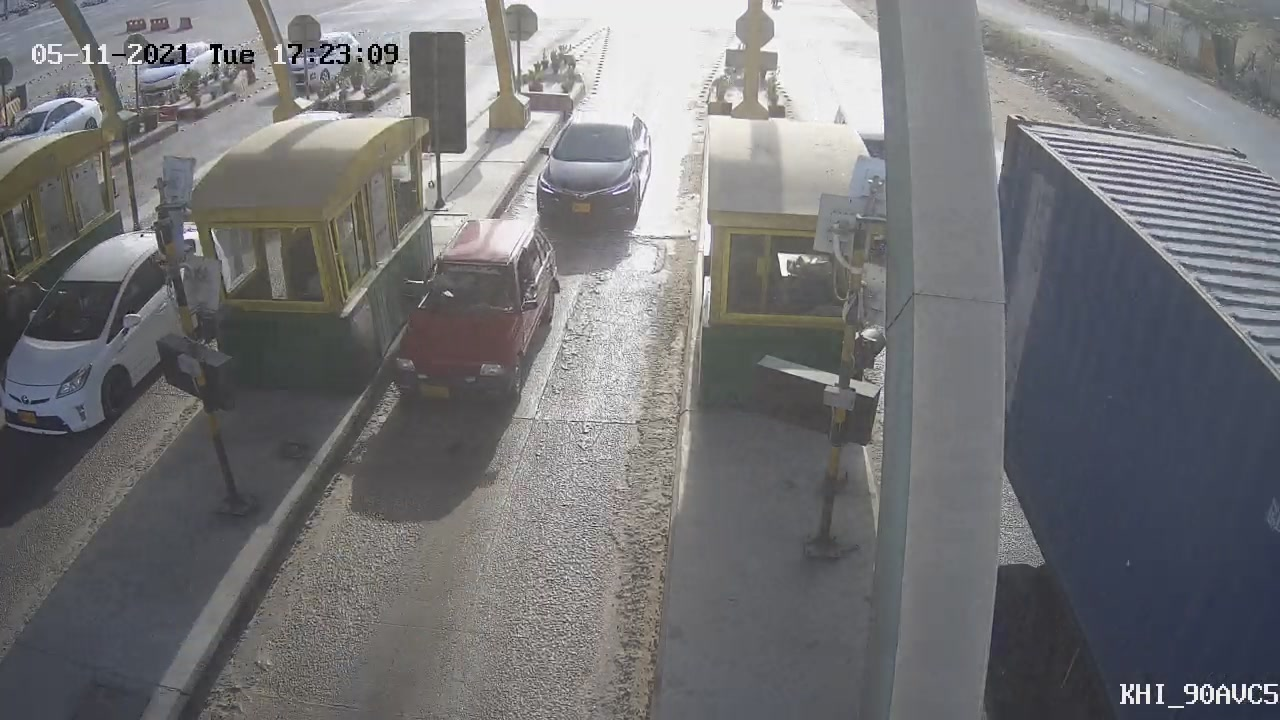F1: (365, 203, 585, 430), (513, 95, 665, 242)
